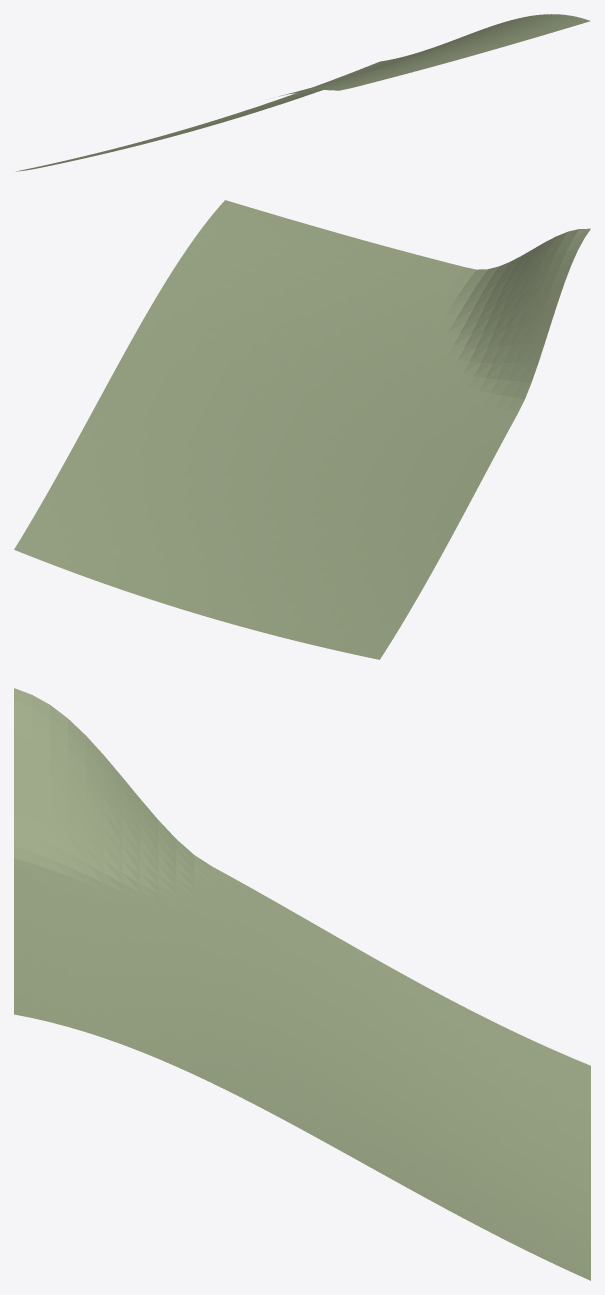
Rendered from expanse-25-28.glb.
3 renders of one model, top to bottom at view 1: azimuth 30°, elevation 25°; view 2: azimuth 150°, elevation 25°; view 3: azimuth 270°, elevation 25°, orthographic. The views are drawn at different scales.
Visible parts, largest first — view 1: expanse-25-28; view 2: expanse-25-28; view 3: expanse-25-28.
Part boxes in pixels (x1,y1,x2,y2): expanse-25-28: (16, 14, 590, 171); expanse-25-28: (14, 200, 590, 659); expanse-25-28: (14, 688, 590, 1280).
Size of the model in its own units: 256 by 186 by 256.
